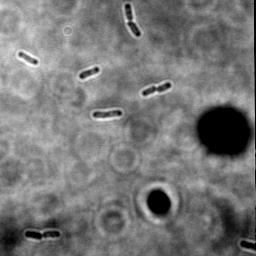Dividing: (124, 2, 141, 39), (140, 81, 172, 98), (23, 229, 62, 240)
Rod: (16, 50, 39, 67), (91, 108, 123, 120), (77, 65, 100, 81)
